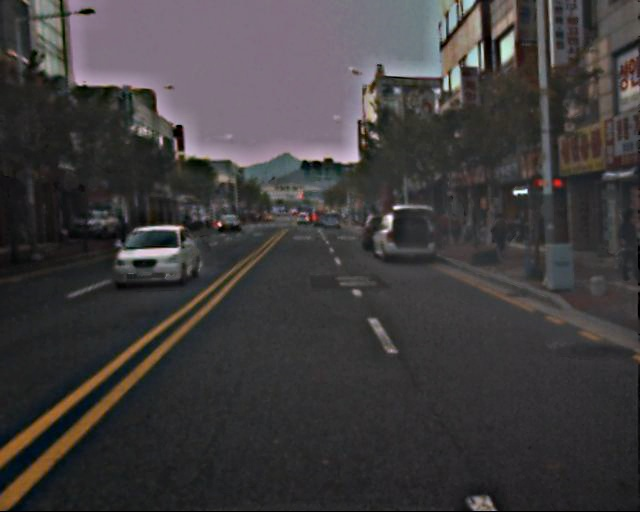person: (604, 201, 640, 285), (493, 212, 511, 255), (437, 209, 452, 245), (450, 211, 463, 242)
